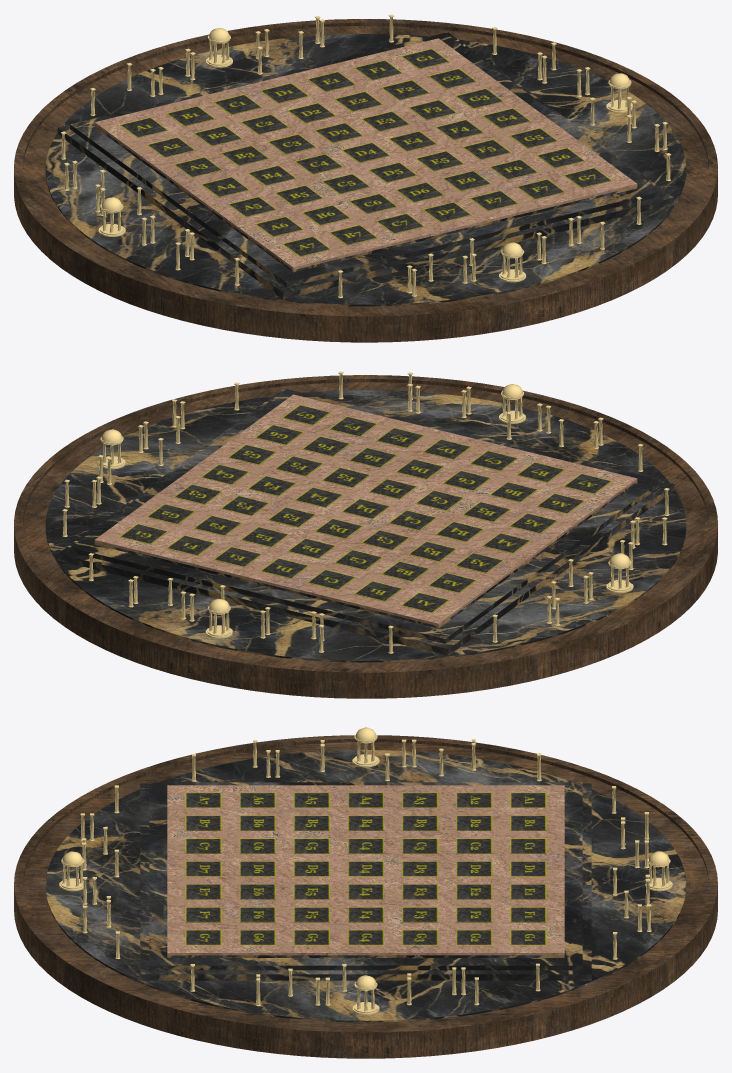
The model's file is tablero7.glb.
3 views of the same model, one above another, from view 1: azimuth 30°, elevation 25°; view 2: azimuth 150°, elevation 25°; view 3: azimuth 270°, elevation 25° (orthographic).
Visible parts, largest first — view 1: BaseCircular, Madera, Tabla, Casillas, Adornos, Casillas.002; view 2: BaseCircular, Madera, Tabla, Casillas, Adornos, Casillas.002; view 3: BaseCircular, Madera, Tabla, Casillas, Adornos, Casillas.002.
Part boxes in pixels (x1,y1,x2,y2): BaseCircular: (45, 32, 686, 306); Madera: (14, 19, 717, 342); Tabla: (94, 38, 637, 272); Casillas: (120, 49, 612, 256); Adornos: (60, 14, 671, 298); Casillas.002: (120, 48, 611, 256); BaseCircular: (45, 388, 686, 662); Madera: (14, 375, 717, 698); Tabla: (94, 394, 637, 628); Casillas: (120, 405, 612, 613); Adornos: (62, 371, 669, 653); Casillas.002: (120, 405, 611, 612); BaseCircular: (45, 750, 686, 1022); Madera: (14, 735, 717, 1058); Tabla: (167, 785, 564, 957); Casillas: (185, 792, 546, 945); Adornos: (59, 727, 672, 1014); Casillas.002: (185, 792, 546, 945).
Bounding box in the file's own units: 39 × 3.59 × 39.
7 materials, 6 textured.
